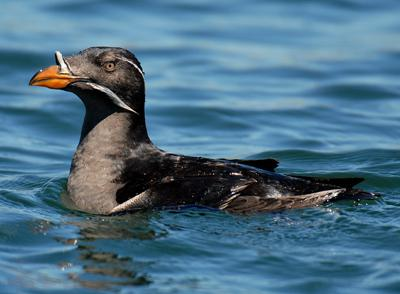008.Rhinoceros_Auklet: (29, 45, 384, 217)
